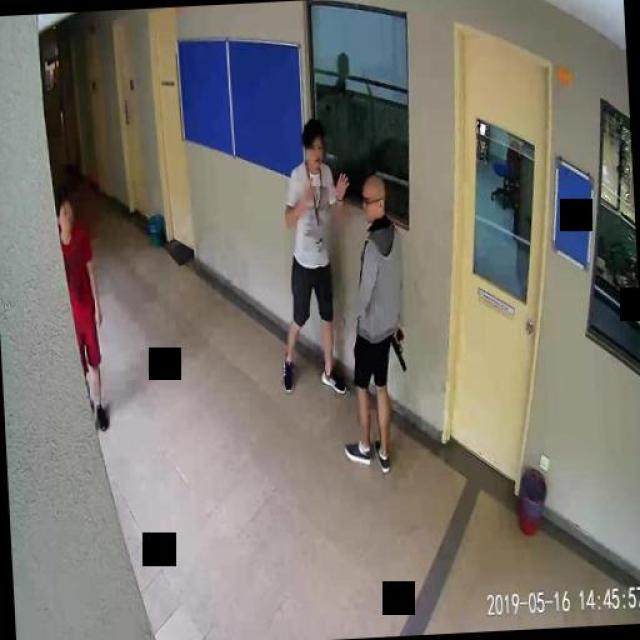gun: (390, 326, 408, 374)
